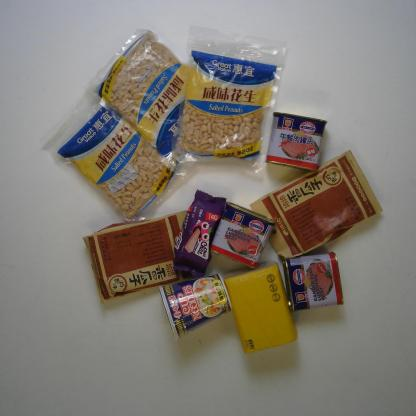Canned Food: (210, 200, 275, 269), (280, 248, 344, 312), (264, 110, 328, 174)
Dessert: (172, 188, 227, 277)
Dried Food: (249, 150, 383, 262), (82, 208, 206, 304)
Dried Fruit: (46, 83, 192, 218), (90, 29, 220, 166), (173, 27, 280, 172)
Instant Noodles: (158, 273, 233, 341)
Tissue: (224, 260, 300, 356)
